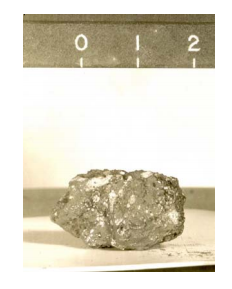Breccia: (48, 155, 196, 252)
